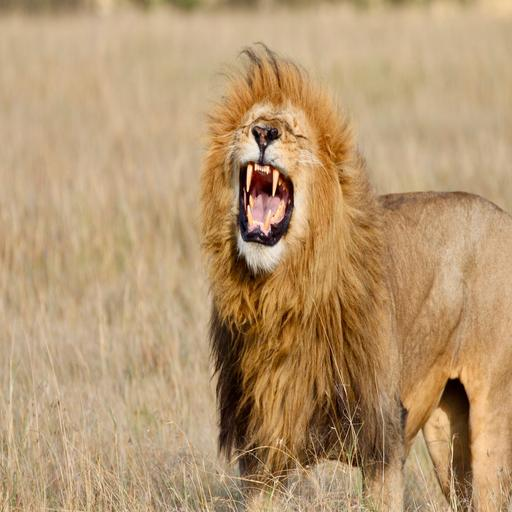Lion: (200, 38, 512, 512)
